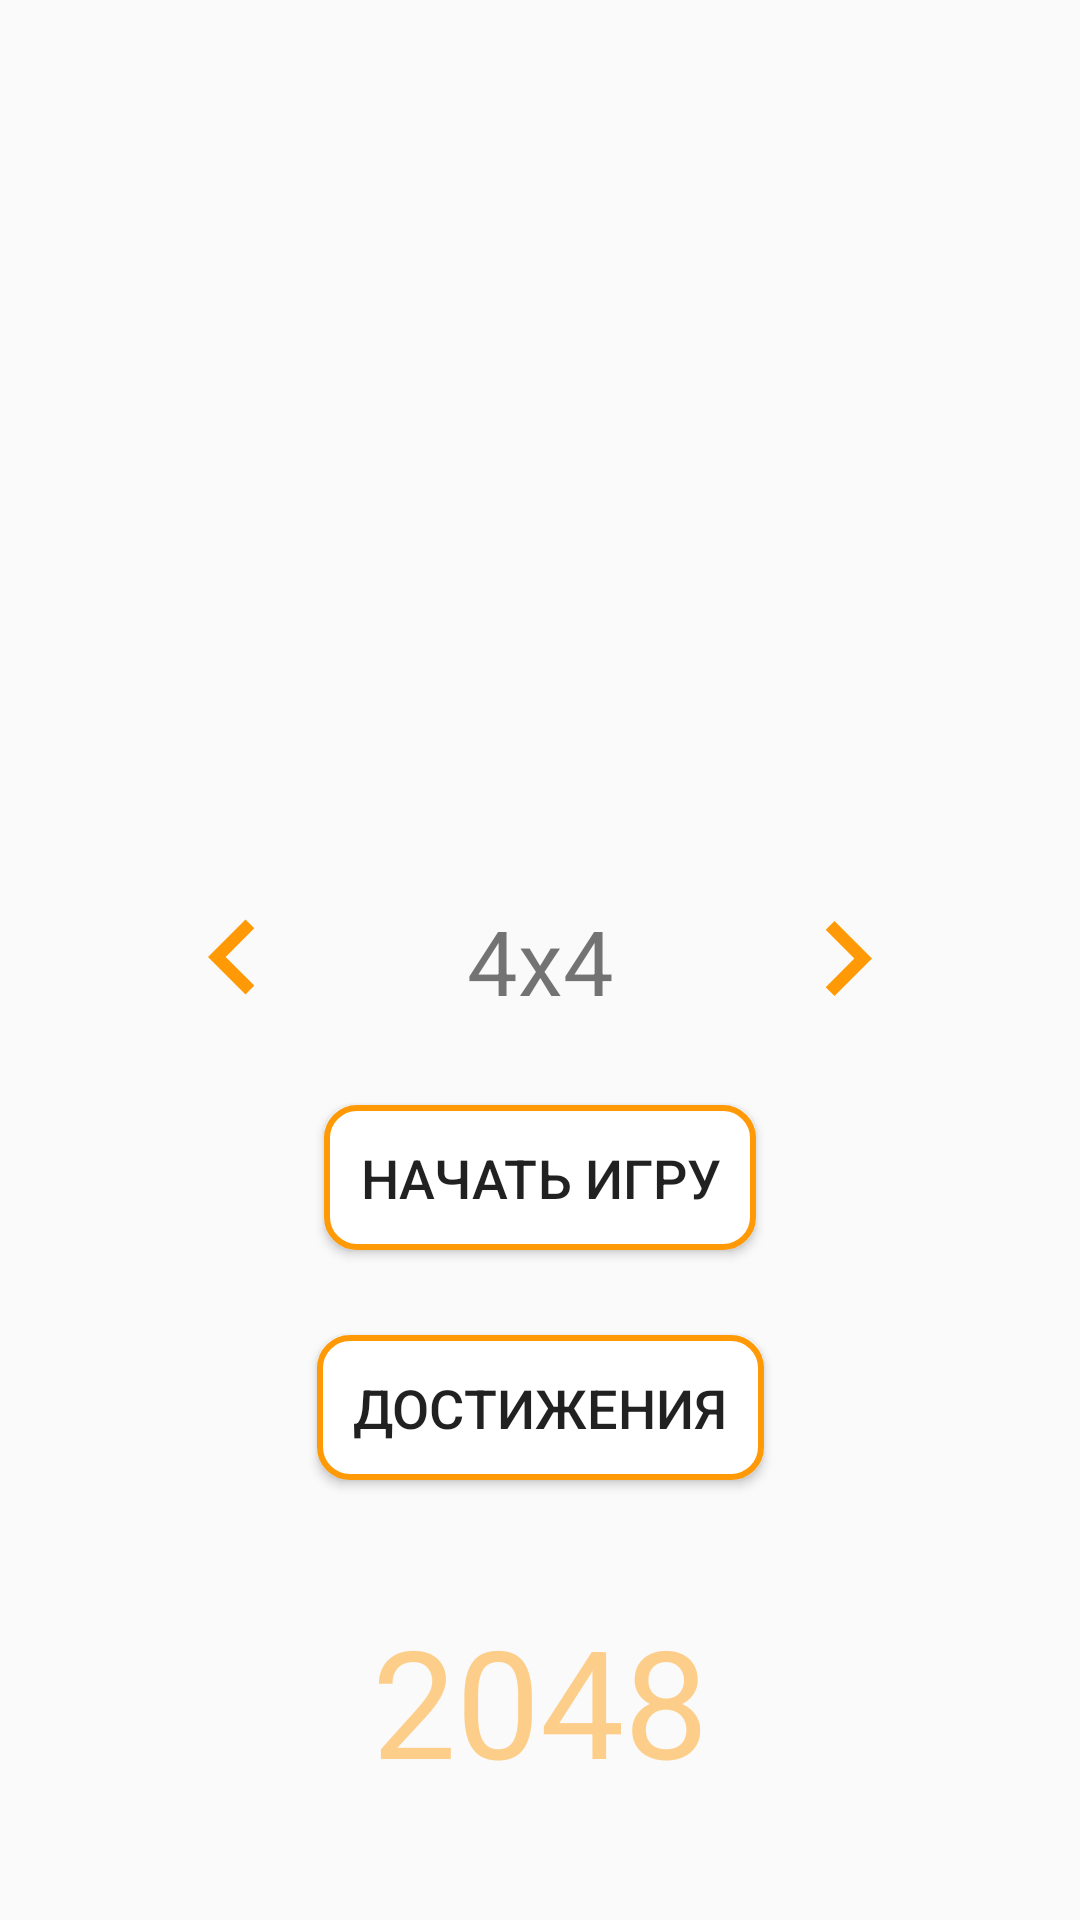

Where icons sit on this 1080 × 1920 app screen, as (x1, y1, x2, y2):
left: (208, 919, 254, 995)
right: (826, 921, 872, 996)
